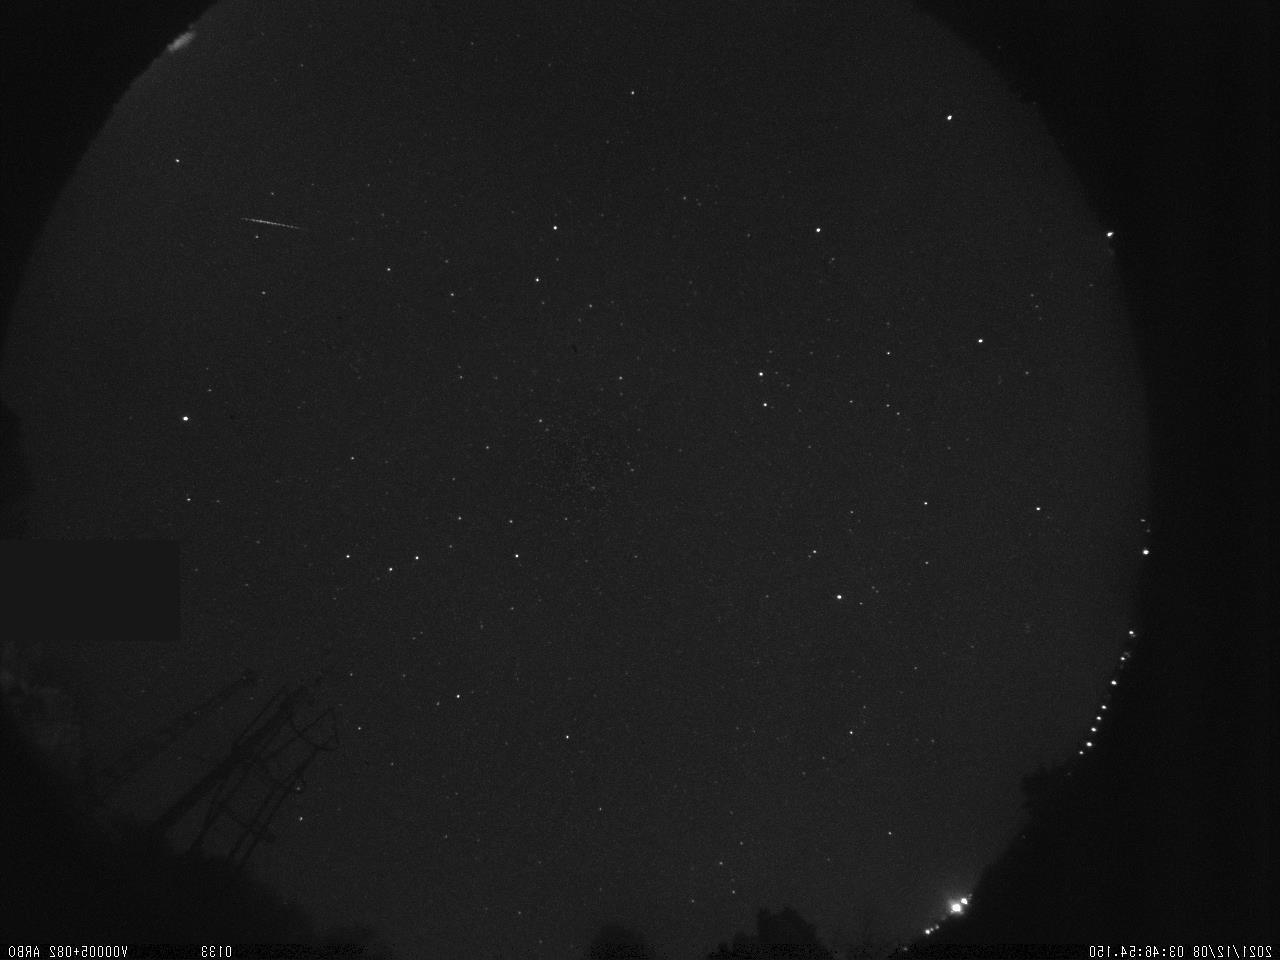meteor: (211, 198, 330, 242)
